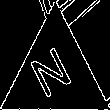N_SE: (29, 41, 81, 105)
